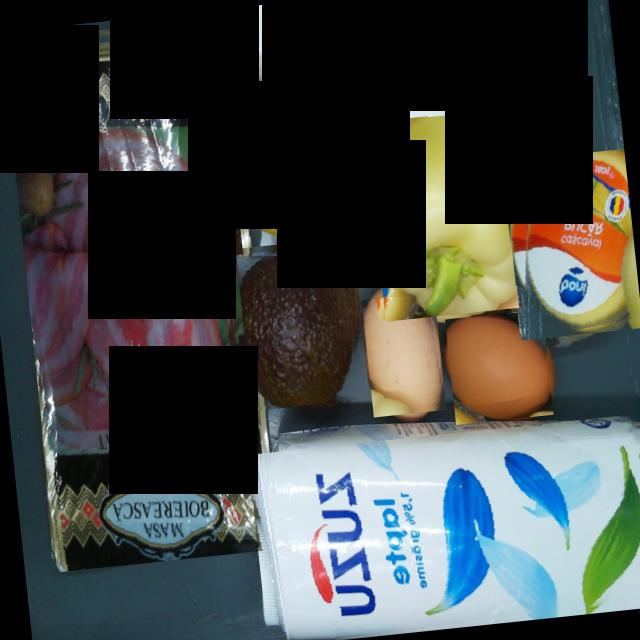avocado: (236, 242, 370, 410)
bacon: (0, 9, 274, 572)
cheese: (504, 148, 640, 339)
eggs: (444, 308, 554, 424), (361, 292, 446, 416), (492, 0, 579, 80)
lemon: (226, 76, 385, 248)
milk: (247, 412, 640, 640)
pepper: (362, 78, 537, 322)
yogurt: (346, 0, 476, 123), (234, 0, 353, 95)
